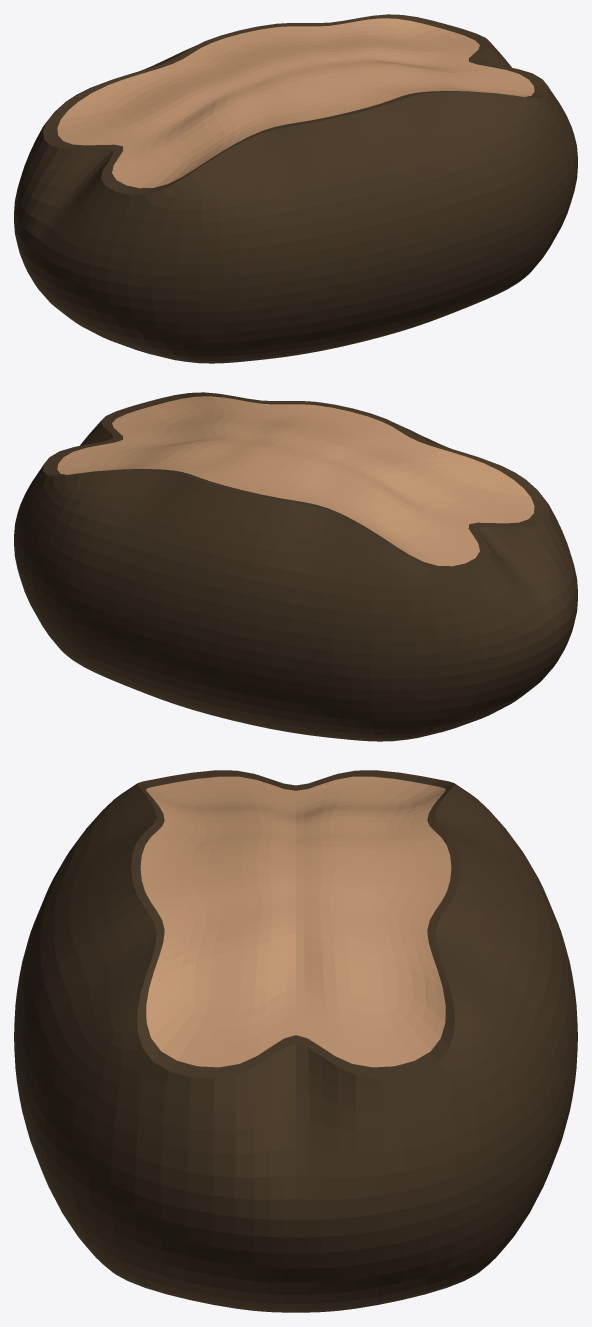
File: brötchen lauge.fbx
3 renders of one model, top to bottom at view 1: azimuth 30°, elevation 25°; view 2: azimuth 150°, elevation 25°; view 3: azimuth 270°, elevation 25°, orthographic. The views are drawn at different scales.
Parts seen in each view (by area): view 1: Cube; view 2: Cube; view 3: Cube.
Boxes of the visible parts, left/top/right/bottom form: Cube: left=14, top=14, right=577, bottom=363; Cube: left=14, top=392, right=577, bottom=741; Cube: left=14, top=770, right=577, bottom=1312.
Bounding box in the file's own units: 59.49 × 27.8 × 38.73.
